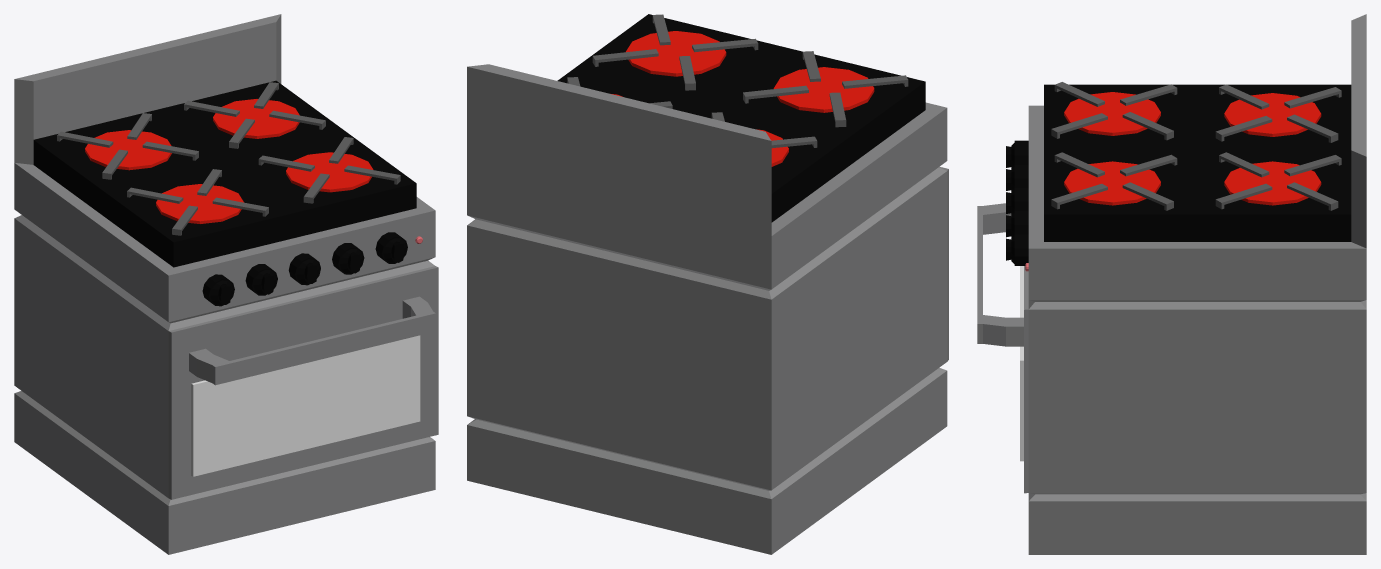
Rendered from Stove.fbx.
3 views of the same model, side by side, from view 1: azimuth 30°, elevation 25°; view 2: azimuth 150°, elevation 25°; view 3: azimuth 270°, elevation 25° (orthographic). The views are drawn at different scales.
Visible parts, largest first — view 1: Stove; view 2: Stove; view 3: Stove.
Part boxes in pixels (x1,y1,x2,y2): Stove: [14, 14, 438, 554]; Stove: [467, 14, 948, 554]; Stove: [977, 14, 1366, 554].
Bounding box in the file's own units: 622 × 806 × 715.
